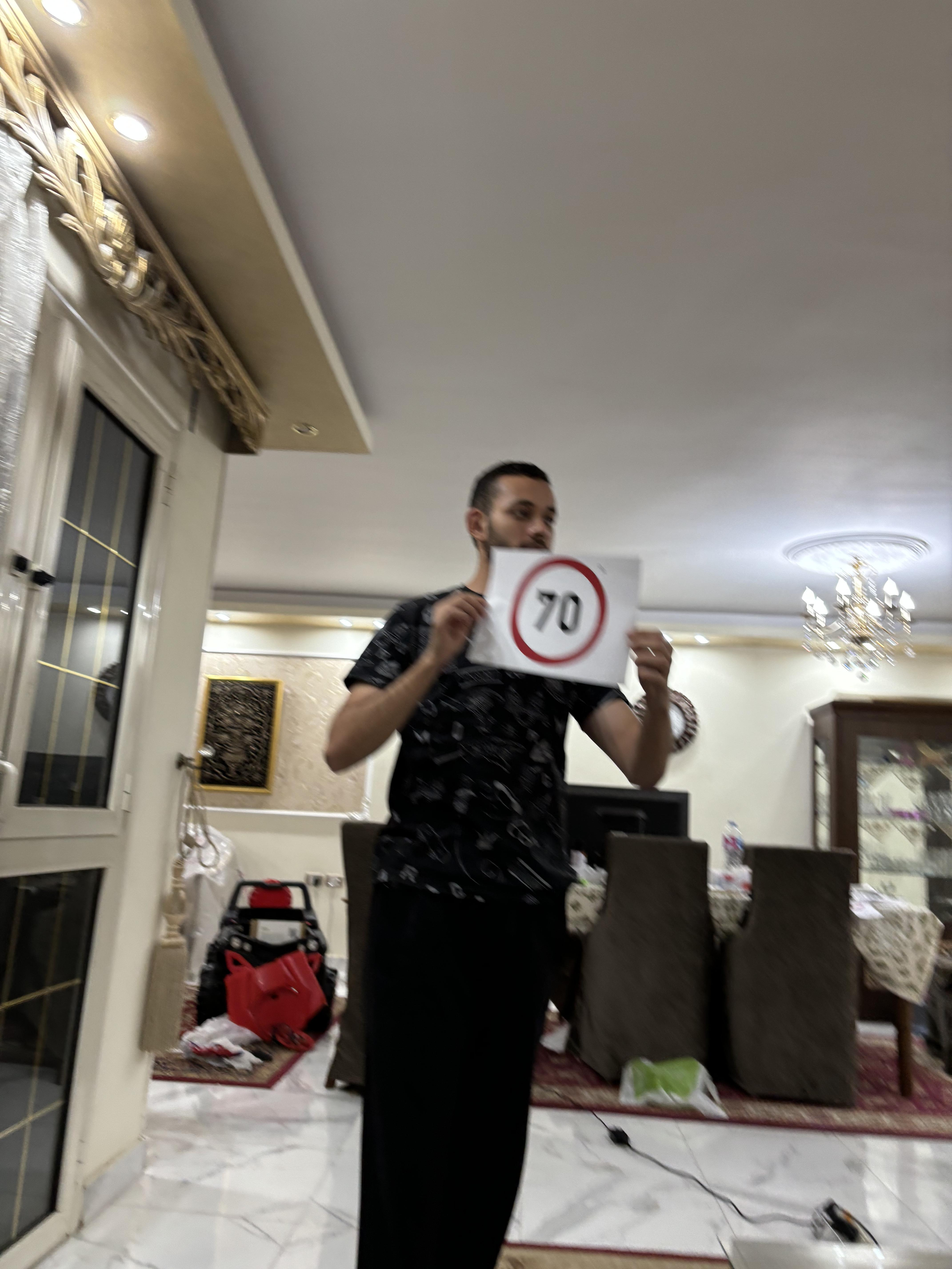70-Speed: (504, 556, 614, 671)
